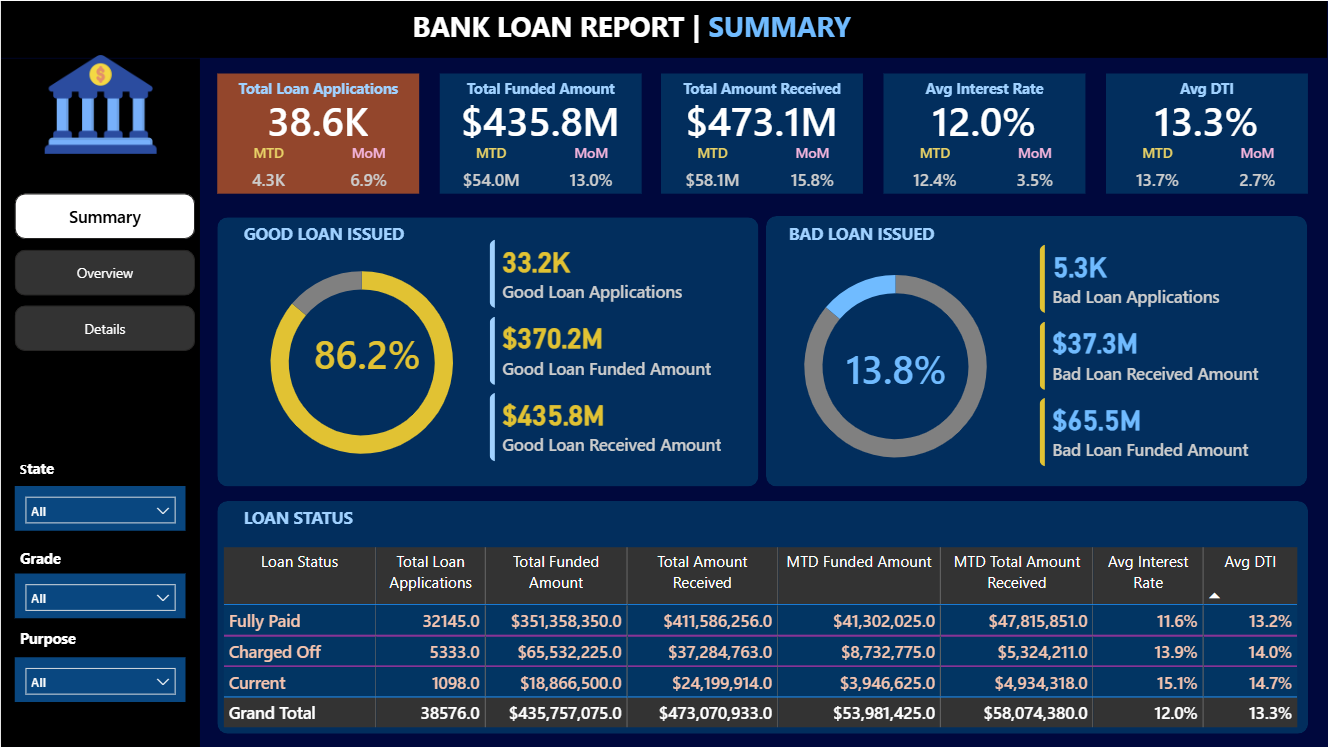

This screenshot's page, from the dashboard's own definition file:
{"tool":"powerbi","page":{"name":"Summary","canvas":[1280,720],"ordinal":0},"visuals":[{"type":"shape","box":[208.4,70.4,194.9,116.4],"z":0,"group":"g1"},{"type":"shape","box":[422.9,70.4,194.9,116.4],"z":0,"group":"g2"},{"type":"shape","box":[637.4,70.4,194.9,116.4],"z":0,"group":"g3"},{"type":"shape","box":[851.9,70.4,194.9,116.4],"z":0,"group":"g4"},{"type":"shape","box":[1066.4,70.4,194.9,116.4],"z":0,"group":"g5"},{"type":"shape","box":[208.4,208.4,522.4,259.8],"z":0},{"type":"shape","box":[0,55.5,192.2,664.5],"z":1000},{"type":"cardVisual","fields":{"Data":["bank_loan_data.Total Loan Applications"]},"box":[208.4,89.3,194.9,48.7],"z":1000,"group":"g1"},{"type":"cardVisual","fields":{"Data":["bank_loan_data.Total Funded Amount"]},"box":[422.9,89.3,194.9,48.7],"z":1000,"group":"g2"},{"type":"cardVisual","fields":{"Data":["bank_loan_data.Total Amount Received"]},"box":[637.4,89.3,194.9,48.7],"z":1000,"group":"g3"},{"type":"cardVisual","fields":{"Data":["bank_loan_data.Avg Interest Rate"]},"box":[851.9,89.3,194.9,48.7],"z":1000,"group":"g4"},{"type":"cardVisual","fields":{"Data":["bank_loan_data.Avg DTI"]},"box":[1066.4,89.3,194.9,48.7],"z":1000,"group":"g5"},{"type":"textbox","box":[208.4,70.4,194.9,28.4],"z":2000,"group":"g1"},{"type":"textbox","box":[422.9,70.4,194.9,28.4],"z":2000,"group":"g2"},{"type":"textbox","box":[637.4,70.4,194.9,28.4],"z":2000,"group":"g3"},{"type":"textbox","box":[851.9,70.4,194.9,28.4],"z":2000,"group":"g4"},{"type":"textbox","box":[1066.4,70.4,194.9,28.4],"z":2000,"group":"g5"},{"type":"cardVisual","fields":{"Data":["bank_loan_data.Good Loan %"]},"box":[289.6,315.3,128.6,48.7],"z":2000},{"type":"shape","box":[0,0,1280.3,54.9],"z":3000},{"type":"cardVisual","title":"MTD","fields":{"Data":["bank_loan_data.MTD Loan Applications"]},"box":[222.7,137.6,70.4,48.7],"z":3000,"group":"g1"},{"type":"cardVisual","title":"MTD","fields":{"Data":["bank_loan_data.MTD Funded Amount"]},"box":[437.2,137.6,70.4,48.7],"z":3000,"group":"g2"},{"type":"cardVisual","title":"MTD","fields":{"Data":["bank_loan_data.MTD Amount Received"]},"box":[651.7,137.6,70.4,48.7],"z":3000,"group":"g3"},{"type":"cardVisual","title":"MTD","fields":{"Data":["bank_loan_data.MTD Avg Int Rate"]},"box":[866.2,137.6,70.4,48.7],"z":3000,"group":"g4"},{"type":"cardVisual","title":"MTD","fields":{"Data":["bank_loan_data.MTD Avg DTI"]},"box":[1080.7,137.6,70.4,48.7],"z":3000,"group":"g5"},{"type":"cardVisual","title":"MoM","fields":{"Data":["bank_loan_data.Mom Loan Applications"]},"box":[318.8,137.6,70.4,48.7],"z":4000,"group":"g1"},{"type":"cardVisual","title":"MoM","fields":{"Data":["bank_loan_data.Mom Total Funded Amount"]},"box":[533.3,137.6,70.4,48.7],"z":4000,"group":"g2"},{"type":"cardVisual","title":"MoM","fields":{"Data":["bank_loan_data.MoM Total Amount Received"]},"box":[747.8,137.6,70.4,48.7],"z":4000,"group":"g3"},{"type":"cardVisual","title":"MoM","fields":{"Data":["bank_loan_data.MoM Avg Int Rate"]},"box":[962.3,137.6,70.4,48.7],"z":4000,"group":"g4"},{"type":"cardVisual","title":"MoM","fields":{"Data":["bank_loan_data.MoM Avg DTI"]},"box":[1176.8,137.6,70.4,48.7],"z":4000,"group":"g5"},{"type":"textbox","box":[228.7,208.4,194.9,40.6],"z":4000},{"type":"textbox","box":[392.5,1.4,494,51.4],"z":5000},{"type":"donutChart","fields":{"Category":["bank_loan_data.Good v Bad Loan"],"Y":["bank_loan_data.Total Loan Applications"]},"box":[223.3,234.1,250.4,230.1],"z":6000},{"type":"group","id":"g1","title":"Group 1","box":[208.4,70.4,194.9,116.4],"z":7000},{"type":"group","id":"g2","title":"Group 1","box":[422.9,70.4,194.9,116.4],"z":8000},{"type":"group","id":"g3","title":"Group 1","box":[637.4,70.4,194.9,116.4],"z":9000},{"type":"group","id":"g4","title":"Group 1","box":[851.9,70.4,194.9,116.4],"z":10000},{"type":"group","id":"g5","title":"Group 1","box":[1066.4,70.4,194.9,116.4],"z":11000},{"type":"shape","box":[738.9,207.1,522.4,261.2],"z":12000},{"type":"cardVisual","fields":{"Data":["bank_loan_data.Good Loan Applications","bank_loan_data.Good Loan Funded Amount","bank_loan_data.Good Loan Received Amount"]},"box":[454.7,213.8,276.1,250.4],"z":13000},{"type":"donutChart","fields":{"Category":["bank_loan_data.Good v Bad Loan"],"Y":["bank_loan_data.Total Loan Applications"]},"box":[738.9,238.2,250.4,230.1],"z":14000},{"type":"textbox","box":[755.2,208.4,194.9,40.6],"z":15000},{"type":"cardVisual","fields":{"Data":["bank_loan_data.Bad Loan %"]},"box":[799.8,328.9,128.6,48.7],"z":16000},{"type":"cardVisual","fields":{"Data":["bank_loan_data.Bad Loan Applications","bank_loan_data.Bad Loan Received Amount","bank_loan_data.Bad Loan Funded Amount"]},"box":[985.2,217.9,276.1,250.4],"z":17000},{"type":"shape","box":[208.4,483.1,1052.9,224.7],"z":18000},{"type":"tableEx","fields":{"Values":["bank_loan_data.loan_status","bank_loan_data.Total Loan Applications","bank_loan_data.Total Funded Amount","bank_loan_data.Total Amount Received","bank_loan_data.MTD Funded Amount","bank_loan_data.MTD Total Amount Received","bank_loan_data.Avg Interest Rate","bank_loan_data.Avg DTI"]},"box":[208.4,522.4,1052.9,185.4],"z":19000},{"type":"textbox","box":[228.7,483.1,194.9,40.6],"z":20000},{"type":"slicer","fields":{"Values":["bank_loan_data.address_state"]},"box":[13.5,468.3,165.1,43.3],"z":21000},{"type":"textbox","box":[13.5,437.1,73.1,31.1],"z":22000},{"type":"slicer","fields":{"Values":["bank_loan_data.grade"]},"box":[13.5,552.2,165.1,43.3],"z":23000},{"type":"textbox","box":[13.5,523.7,73.1,28.4],"z":24000},{"type":"slicer","fields":{"Values":["bank_loan_data.purpose"]},"box":[13.5,633.4,165.1,43.3],"z":25000},{"type":"textbox","box":[13.5,600.9,73.1,32.5],"z":26000},{"type":"image","box":[33.8,42,124.5,115],"z":27000},{"type":"pageNavigator","box":[13.5,185.4,174.6,154.3],"z":28000}]}

Visuals, with their boxes in screenshot pixels (x1, y1, x2, y2), scaled from the page's 1280x720 canvas onto the 1328x747 screenshot:
shape: [216, 73, 418, 194]
shape: [439, 73, 641, 194]
shape: [661, 73, 864, 194]
shape: [884, 73, 1086, 194]
shape: [1106, 73, 1309, 194]
shape: [216, 216, 758, 486]
shape: [0, 58, 199, 746]
cardVisual - bank_loan_data.Total Loan Applications: [216, 93, 418, 143]
cardVisual - bank_loan_data.Total Funded Amount: [439, 93, 641, 143]
cardVisual - bank_loan_data.Total Amount Received: [661, 93, 864, 143]
cardVisual - bank_loan_data.Avg Interest Rate: [884, 93, 1086, 143]
cardVisual - bank_loan_data.Avg DTI: [1106, 93, 1309, 143]
textbox: [216, 73, 418, 103]
textbox: [439, 73, 641, 103]
textbox: [661, 73, 864, 103]
textbox: [884, 73, 1086, 103]
textbox: [1106, 73, 1309, 103]
cardVisual - bank_loan_data.Good Loan %: [300, 327, 434, 378]
shape: [0, 0, 1327, 57]
"MTD" cardVisual: [231, 143, 304, 193]
"MTD" cardVisual: [454, 143, 527, 193]
"MTD" cardVisual: [676, 143, 749, 193]
"MTD" cardVisual: [899, 143, 972, 193]
"MTD" cardVisual: [1121, 143, 1194, 193]
"MoM" cardVisual: [331, 143, 404, 193]
"MoM" cardVisual: [553, 143, 626, 193]
"MoM" cardVisual: [776, 143, 849, 193]
"MoM" cardVisual: [998, 143, 1071, 193]
"MoM" cardVisual: [1221, 143, 1294, 193]
textbox: [237, 216, 439, 258]
textbox: [407, 1, 920, 55]
donutChart - bank_loan_data.Good v Bad Loan x bank_loan_data.Total Loan Applications: [232, 243, 491, 482]
"Group 1" group: [216, 73, 418, 194]
"Group 1" group: [439, 73, 641, 194]
"Group 1" group: [661, 73, 864, 194]
"Group 1" group: [884, 73, 1086, 194]
"Group 1" group: [1106, 73, 1309, 194]
shape: [767, 215, 1309, 486]
cardVisual - bank_loan_data.Good Loan Applications x bank_loan_data.Good Loan Funded Amount: [472, 222, 758, 482]
donutChart - bank_loan_data.Good v Bad Loan x bank_loan_data.Total Loan Applications: [767, 247, 1026, 486]
textbox: [784, 216, 986, 258]
cardVisual - bank_loan_data.Bad Loan %: [830, 341, 963, 392]
cardVisual - bank_loan_data.Bad Loan Applications x bank_loan_data.Bad Loan Received Amount: [1022, 226, 1309, 486]
shape: [216, 501, 1309, 734]
tableEx - bank_loan_data.loan_status x bank_loan_data.Total Loan Applications: [216, 542, 1309, 734]
textbox: [237, 501, 439, 543]
slicer - bank_loan_data.address_state: [14, 486, 185, 531]
textbox: [14, 453, 90, 486]
slicer - bank_loan_data.grade: [14, 573, 185, 618]
textbox: [14, 543, 90, 573]
slicer - bank_loan_data.purpose: [14, 657, 185, 702]
textbox: [14, 623, 90, 657]
image: [35, 44, 164, 163]
pageNavigator: [14, 192, 195, 352]
